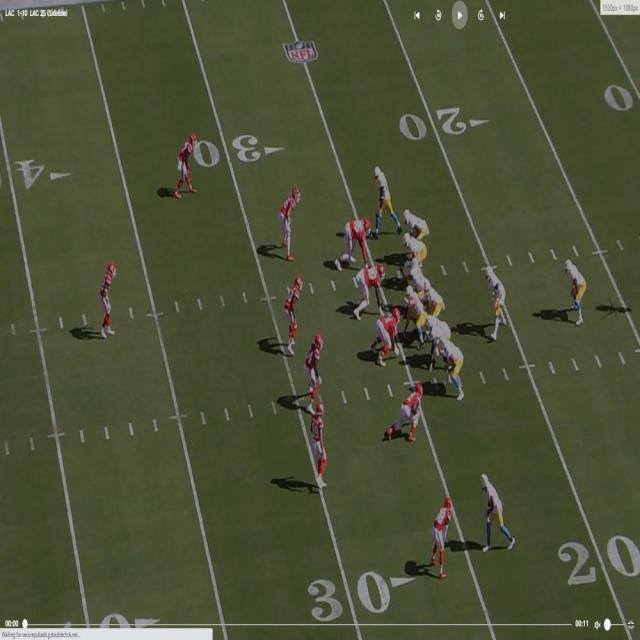center: (400, 286, 425, 348)
db: (429, 499, 452, 573), (174, 134, 197, 194), (279, 187, 298, 259), (102, 263, 117, 337)
lb: (310, 404, 327, 491), (304, 342, 322, 413), (284, 277, 300, 355)
qb: (425, 283, 443, 317)
skill: (480, 475, 505, 542), (486, 265, 508, 341), (564, 262, 587, 320), (402, 206, 430, 238), (376, 168, 393, 218)
